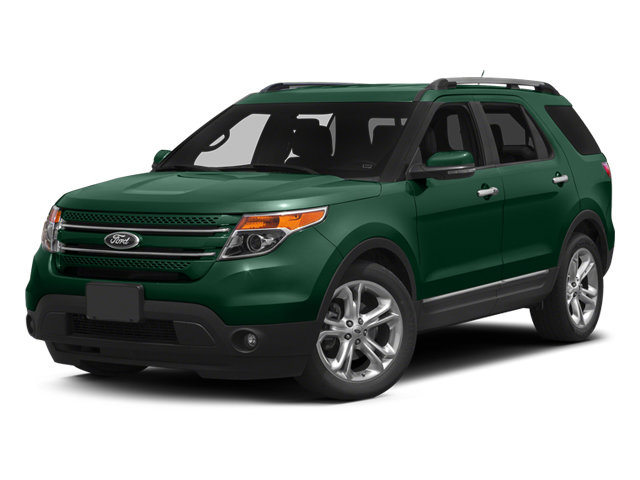Ford Explorer: (18, 72, 622, 401)
